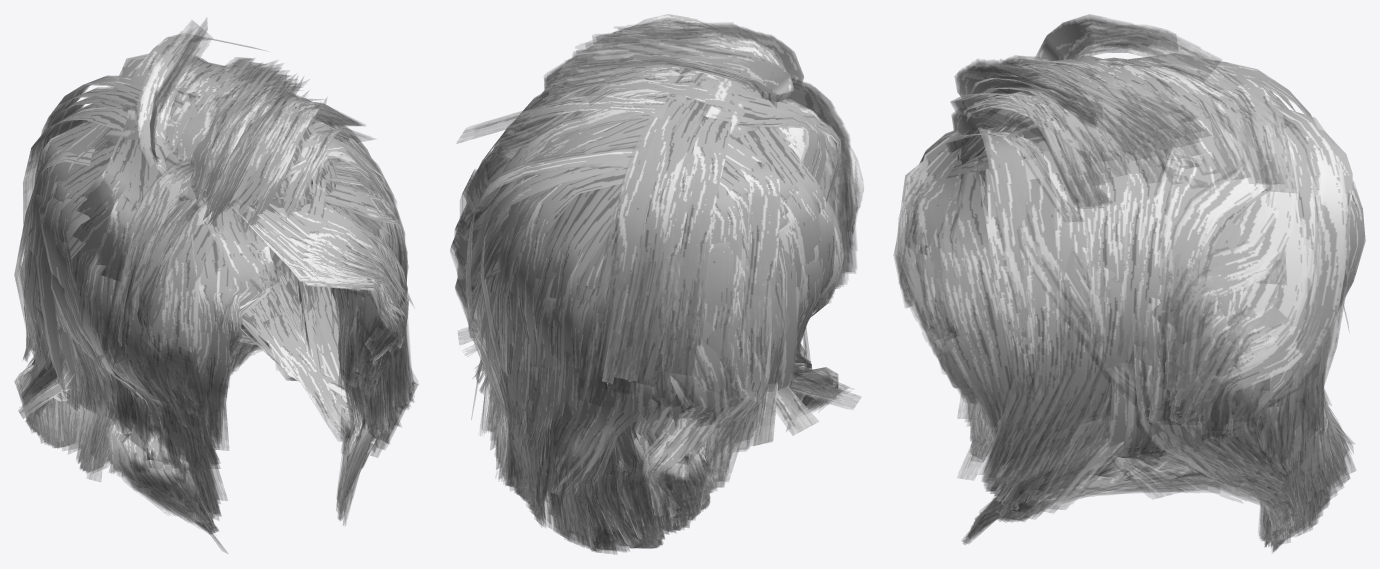
File: hair_long01.glb
3 renders of one model, left to right at view 1: azimuth 30°, elevation 25°; view 2: azimuth 150°, elevation 25°; view 3: azimuth 270°, elevation 25°, orthographic. The views are drawn at different scales.
Visible parts, largest first — view 1: daz_hair_side_long; view 2: daz_hair_side_long; view 3: daz_hair_side_long.
Part boxes in pixels (left/top/right/bottom): daz_hair_side_long: left=14, top=18, right=418, bottom=553; daz_hair_side_long: left=450, top=14, right=863, bottom=554; daz_hair_side_long: left=893, top=14, right=1365, bottom=552.
Bounding box in the file's own units: 0.2344 × 0.3008 × 0.2433.
Materials: 1 (1 with a texture image).
